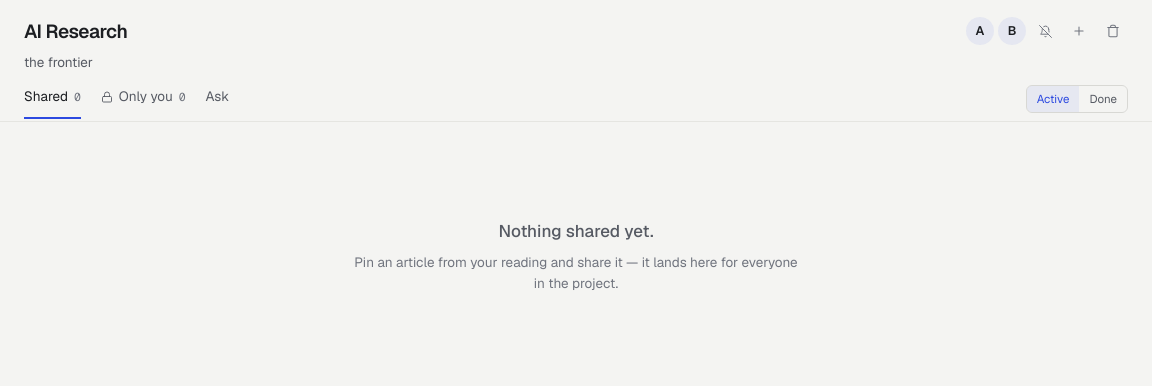
Scenario: ProjectPage › shows the API error when inviting fails
Click the button titled "Invite someone": (1079, 31) [1064,16,1094,46]
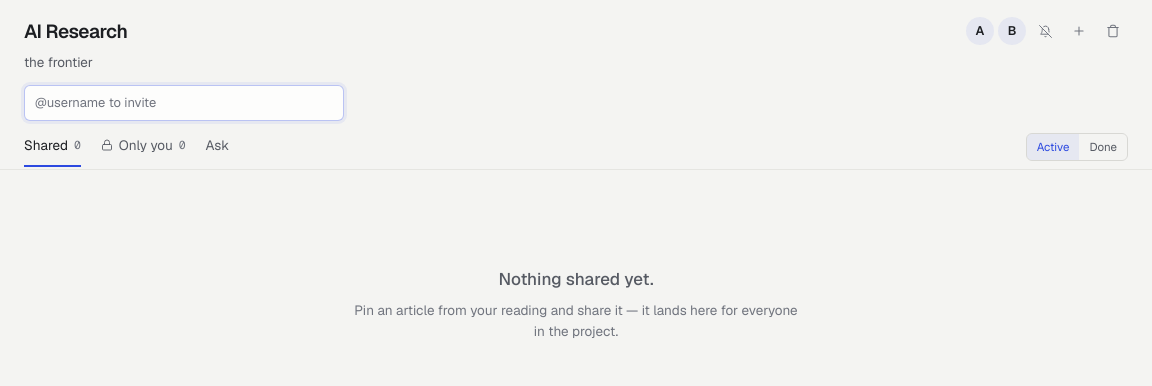
In the field with placeholder "@username to invite": (184, 103) [24,85,344,121], type "car"
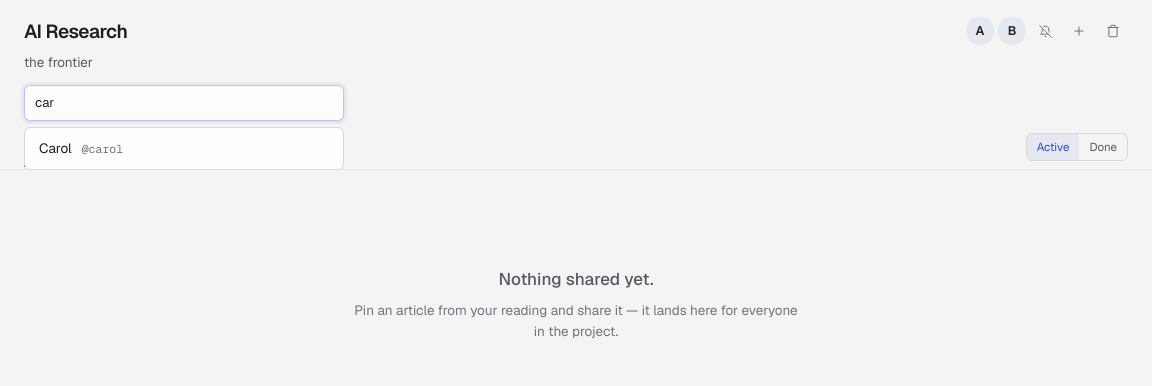
Click the text "Carol": (55, 149) [39,138,72,159]
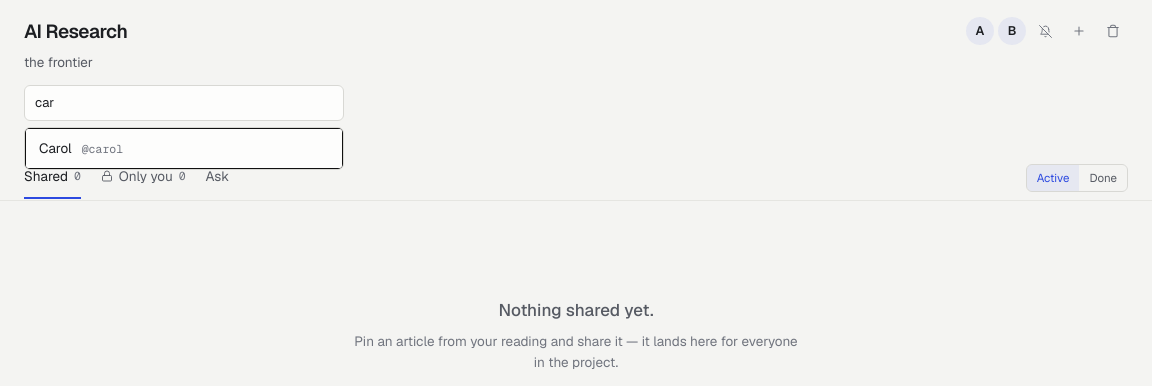
expect the text "Already a member" is shown: met, box [24,131,149,150]
